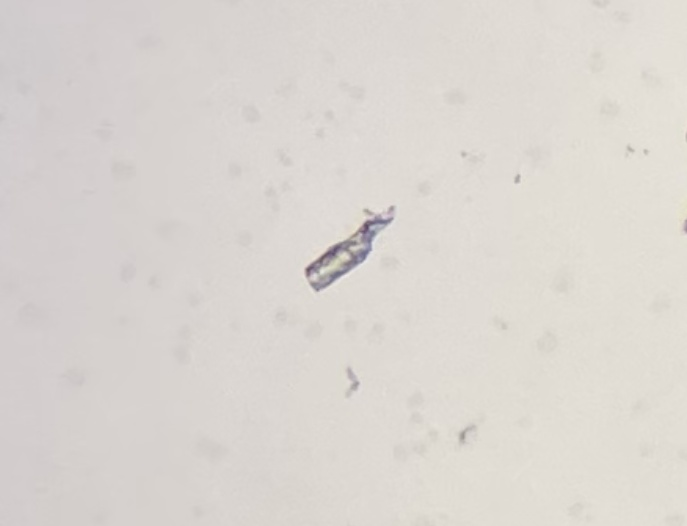microplastic: (305, 203, 396, 293)
